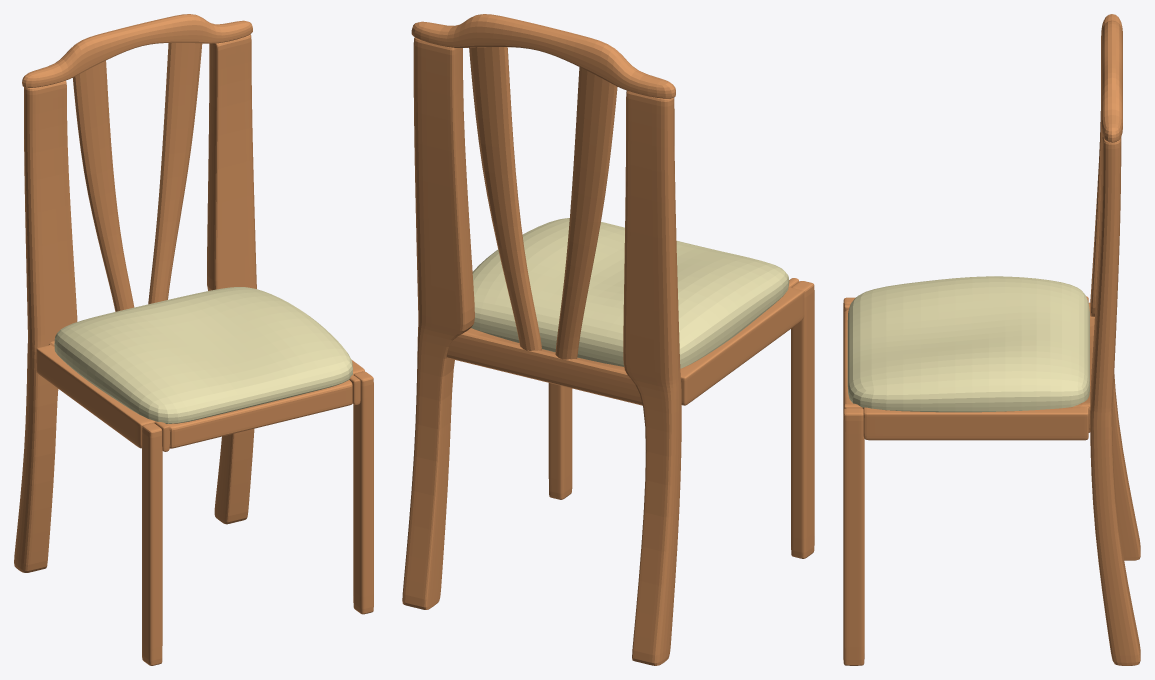
The model's file is SillaUnity.fbx.
The picture shows the model from 3 angles, left to right: view 1: azimuth 30°, elevation 25°; view 2: azimuth 150°, elevation 25°; view 3: azimuth 270°, elevation 25°; orthographic projection. The views are drawn at different scales.
Visible parts, largest first — view 1: Silla, Cojin; view 2: Silla, Cojin; view 3: Silla, Cojin.
Boxes of the visible parts, <box> form: Silla: <box>14,14,373,665</box>; Cojin: <box>54,287,352,423</box>; Silla: <box>402,14,814,665</box>; Cojin: <box>471,218,789,368</box>; Silla: <box>843,14,1140,665</box>; Cojin: <box>847,276,1089,412</box>.
Bounding box in the file's own units: 123 × 267 × 129.
